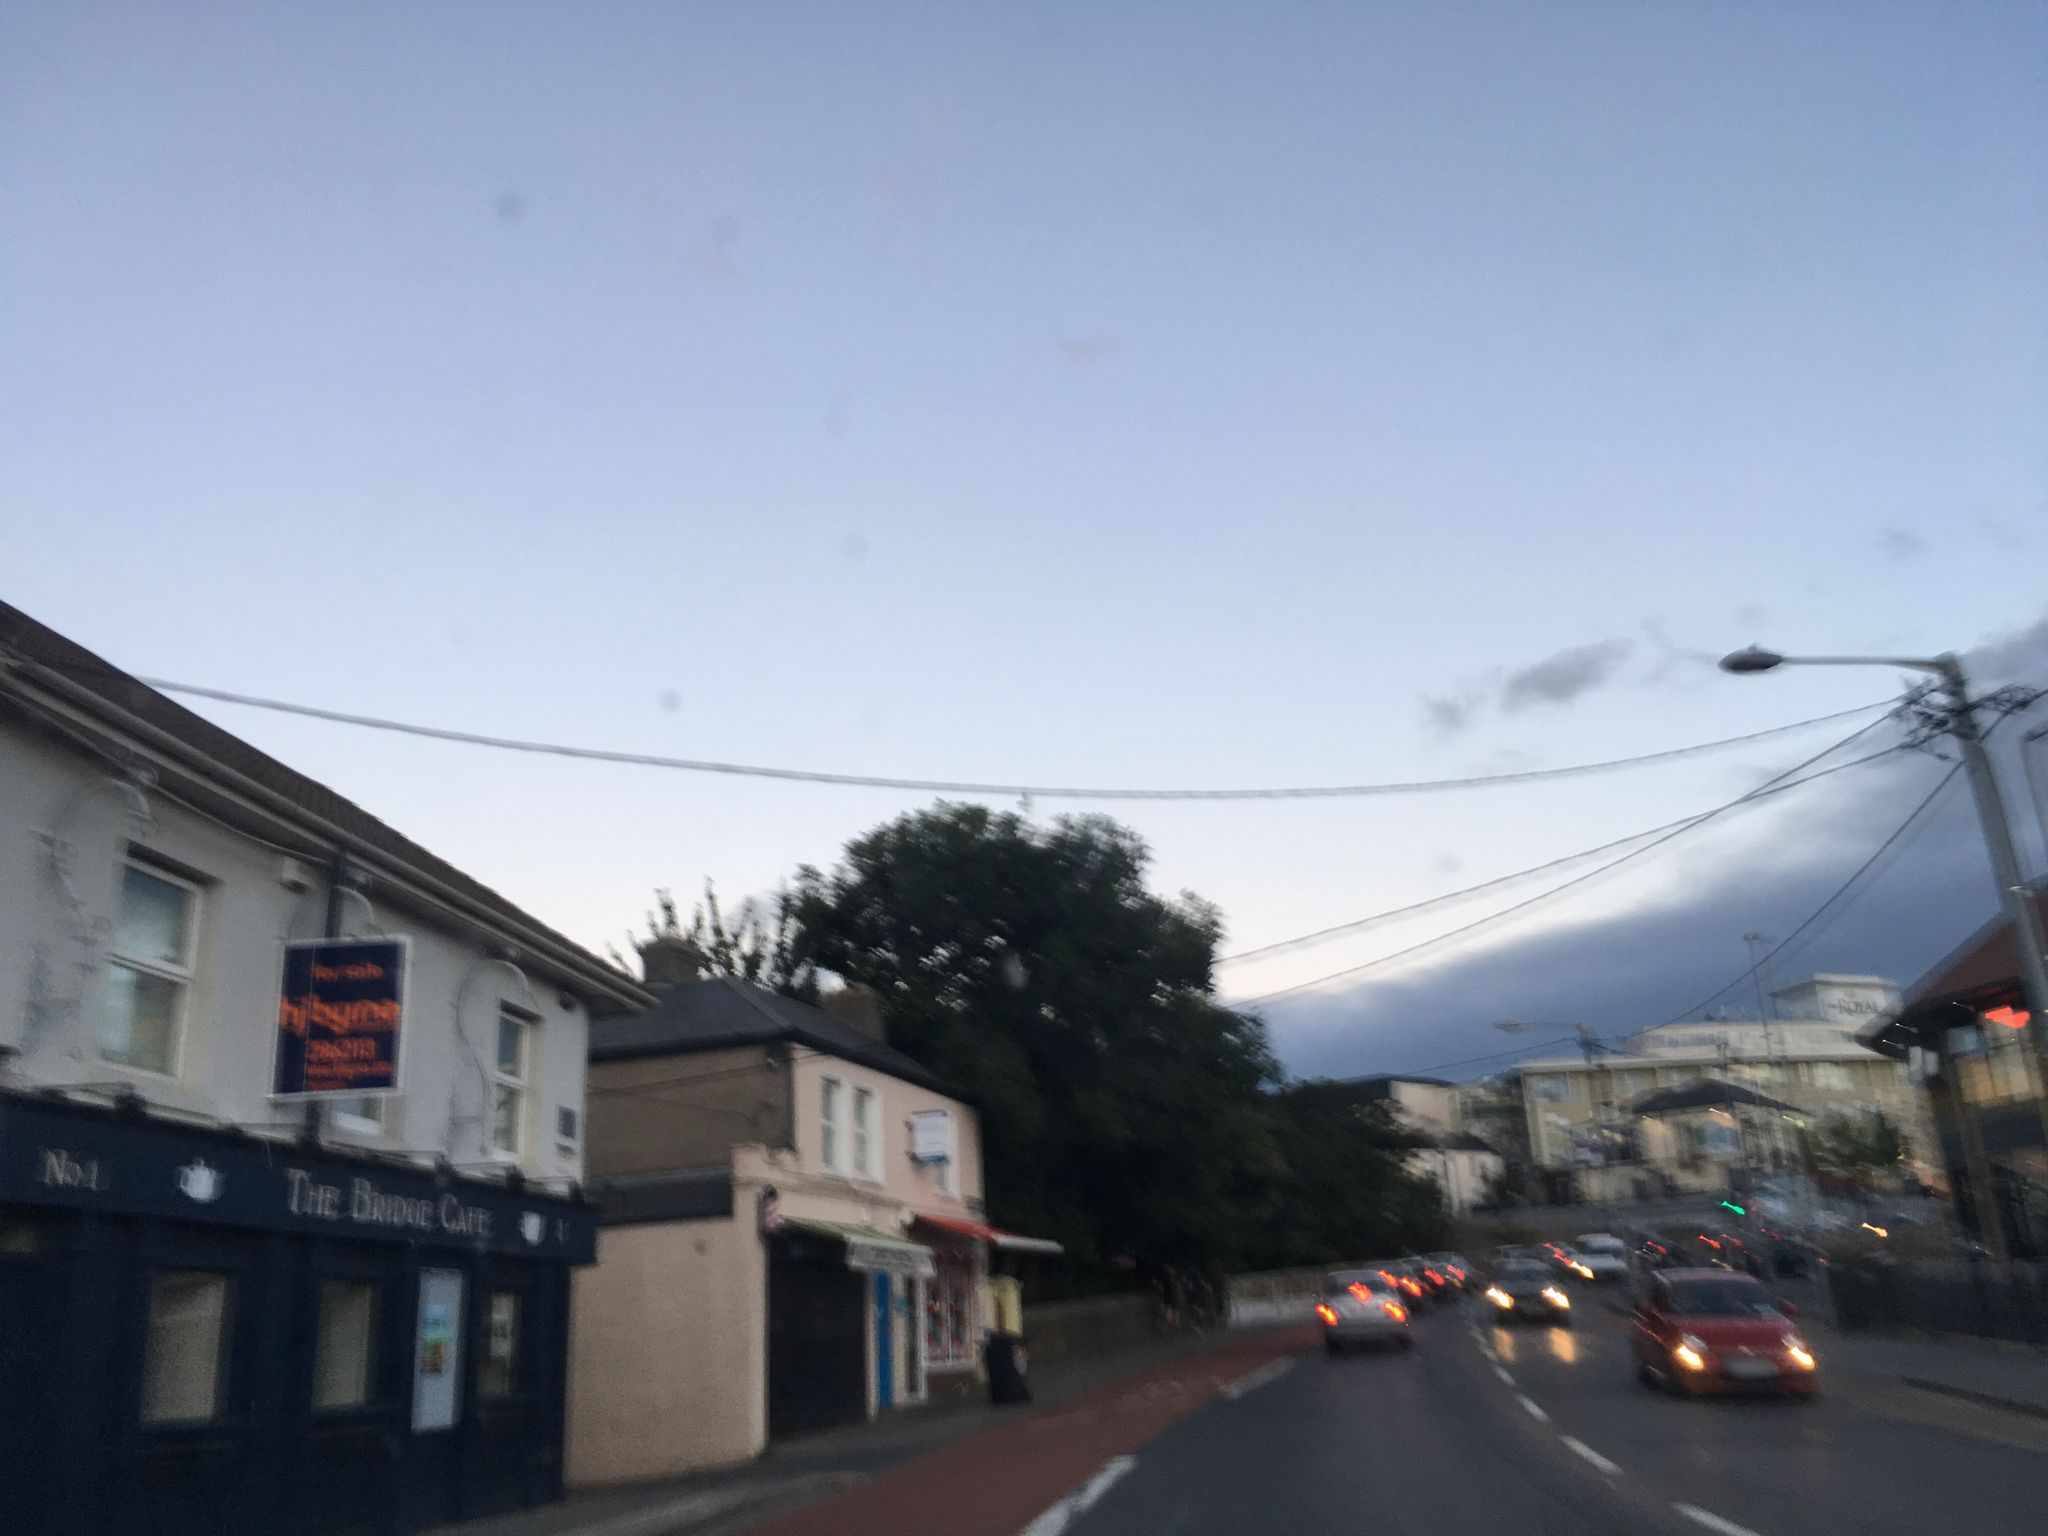property sign: (232, 892, 439, 1125)
